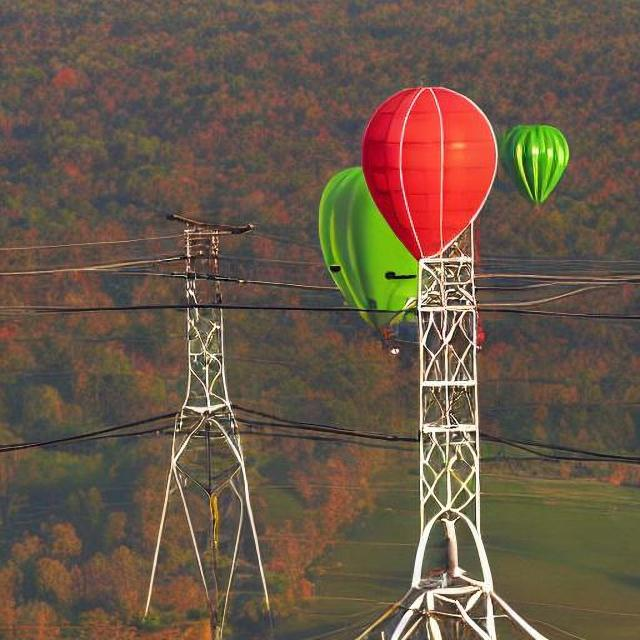balloon: (303, 157, 432, 334), (369, 80, 499, 250), (504, 122, 570, 203)
